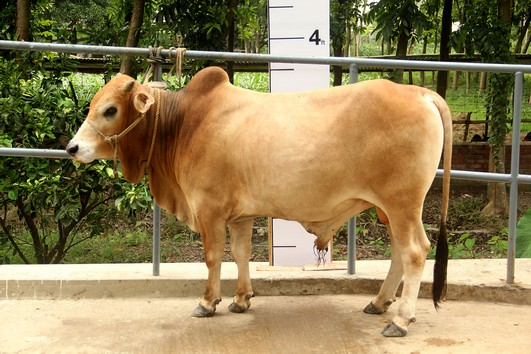cow: (61, 64, 457, 340)
